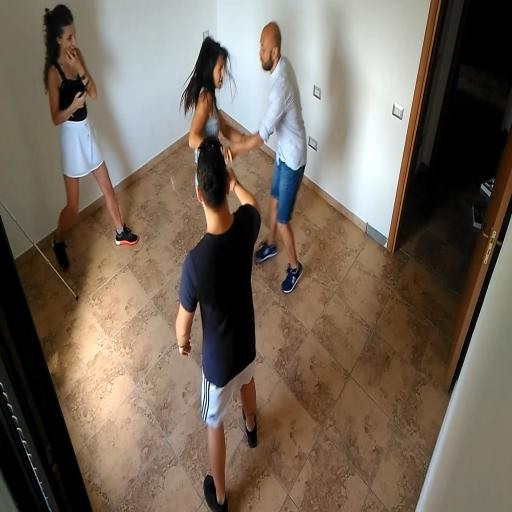agarrar: (176, 22, 338, 303)
